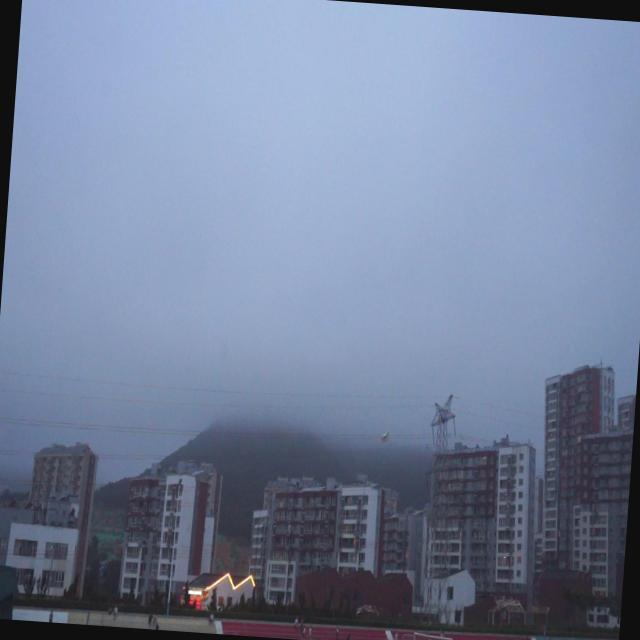drone: (378, 427, 390, 444)
